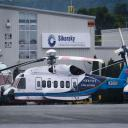helicopter: (2, 28, 128, 106)
